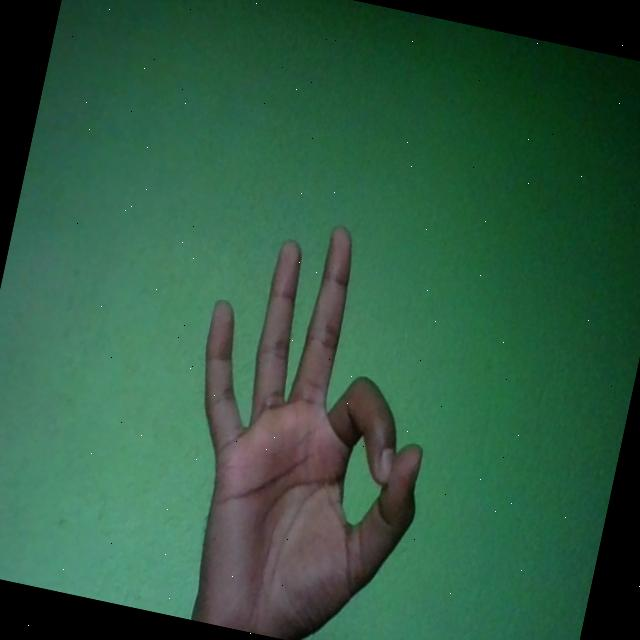Rock On: (147, 201, 470, 640)
